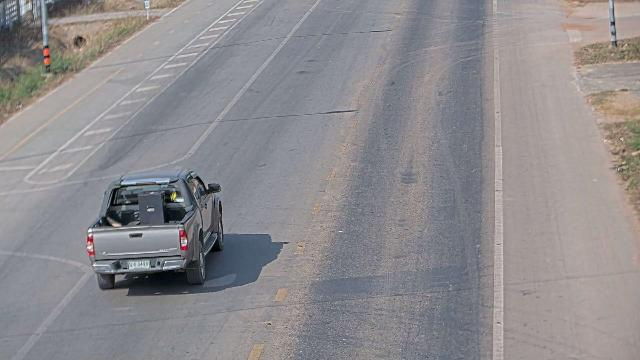pickup-truck: (85, 167, 225, 290)
